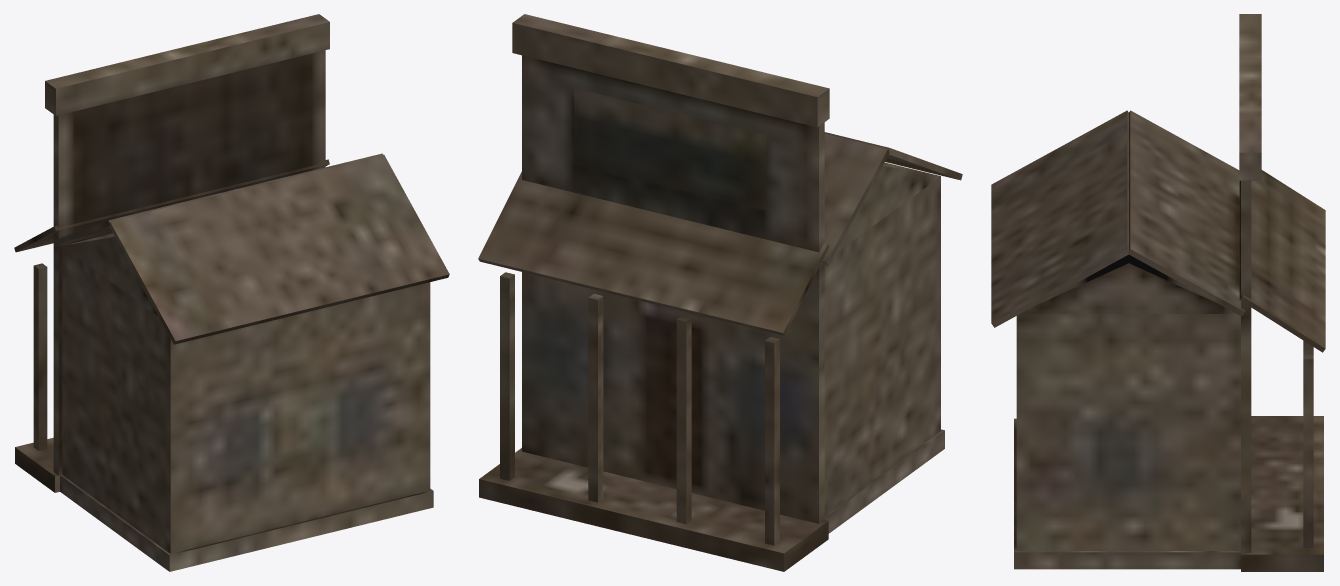
File: b_shop_xfar.glb
3 views of the same model, side by side, from view 1: azimuth 30°, elevation 25°; view 2: azimuth 150°, elevation 25°; view 3: azimuth 270°, elevation 25° (orthographic). The views are drawn at different scales.
Visible parts, largest first — view 1: b_shop_xfar; view 2: b_shop_xfar; view 3: b_shop_xfar.
Part boxes in pixels (x1,y1,x2,y2): b_shop_xfar: (14, 14, 449, 571); b_shop_xfar: (478, 14, 962, 571); b_shop_xfar: (991, 14, 1325, 571).
Bounding box in the file's own units: 3.8 × 5.36 × 3.87.
Materials: 1 (1 with a texture image).
